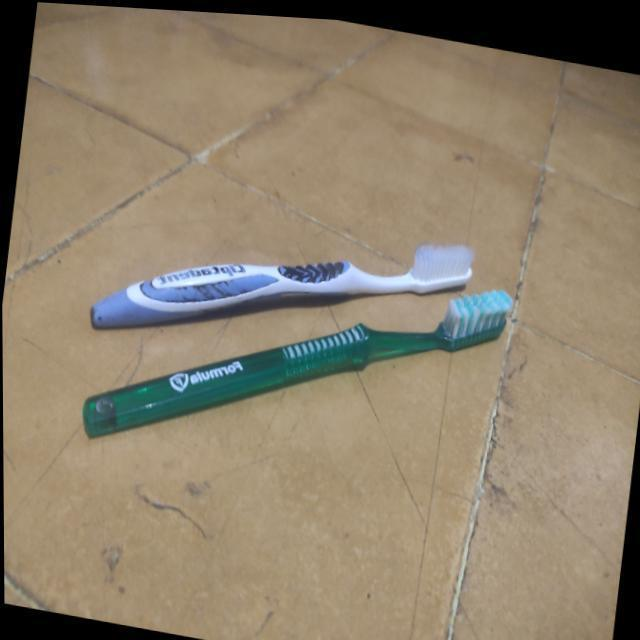toothbrush: (54, 190, 542, 532), (32, 138, 488, 418)
